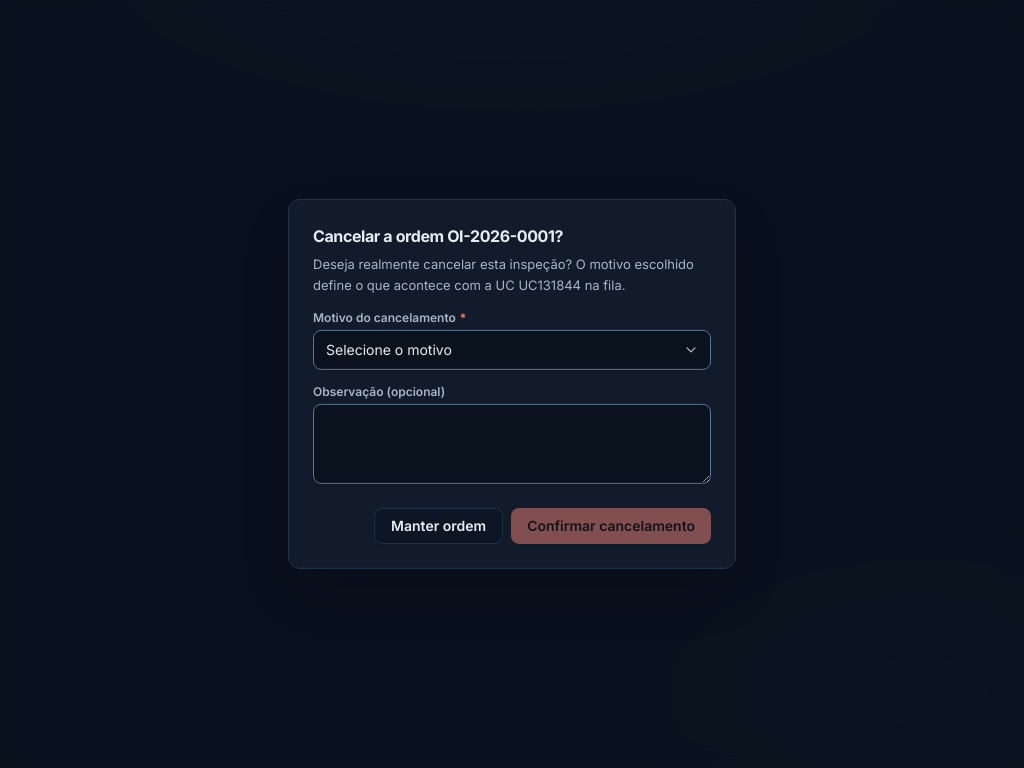
Test: CancelOrderDialog › avisa que a UC fica fora da fila por 90 dias quando o motivo é cliente_regularizou
Select "UC regularizada pelo cliente" in the dropdown labelled "Motivo do cancelamento*": (512, 350) 313,330 -> 711,370
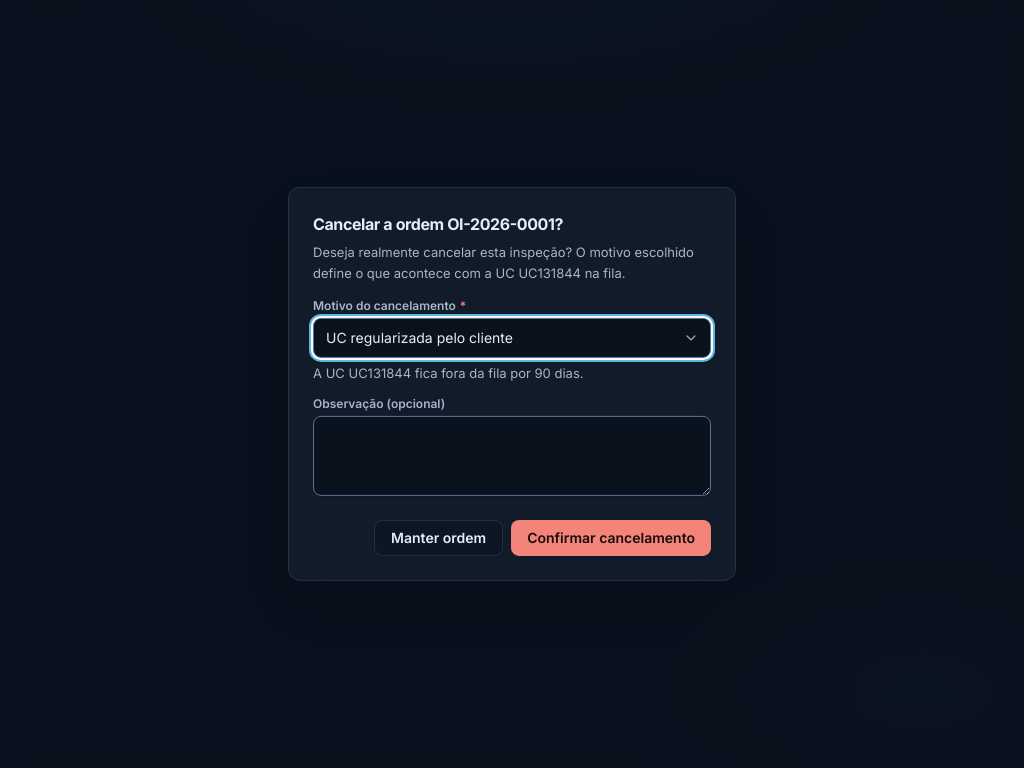
Expected: the text "A UC UC131844 fica fora da fila por 90 dias." is shown, 313,365 -> 584,381
